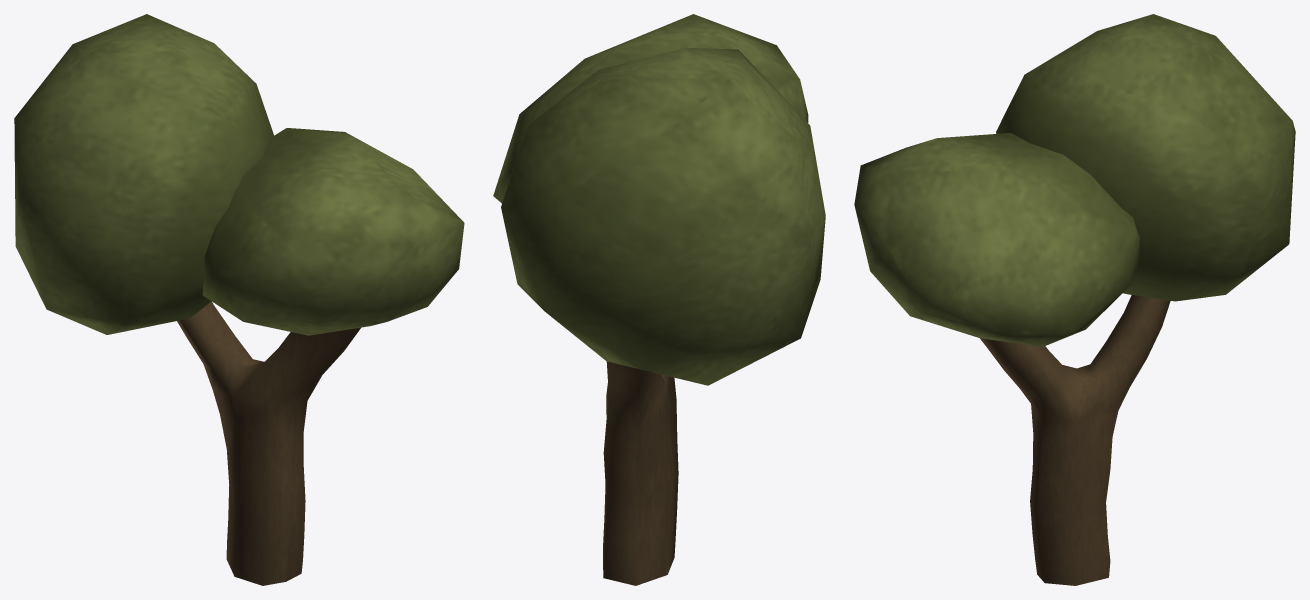
File: Trees_01.fbx
The picture shows the model from 3 angles, left to right: view 1: azimuth 30°, elevation 25°; view 2: azimuth 150°, elevation 25°; view 3: azimuth 270°, elevation 25°; orthographic projection. The views are drawn at different scales.
Visible parts, largest first — view 1: Cube; view 2: Cube; view 3: Cube.
Boxes of the visible parts, x1,y1,x2,y2 form: Cube: (14,14,464,585); Cube: (493,14,825,585); Cube: (854,14,1295,585).
Bounding box in the file's own units: 924 × 1334 × 1068.
